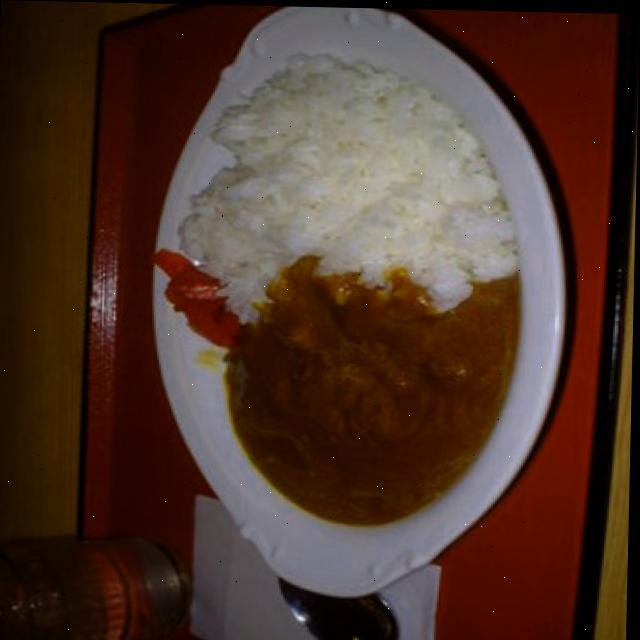牛肉菜式: (138, 3, 570, 600)
